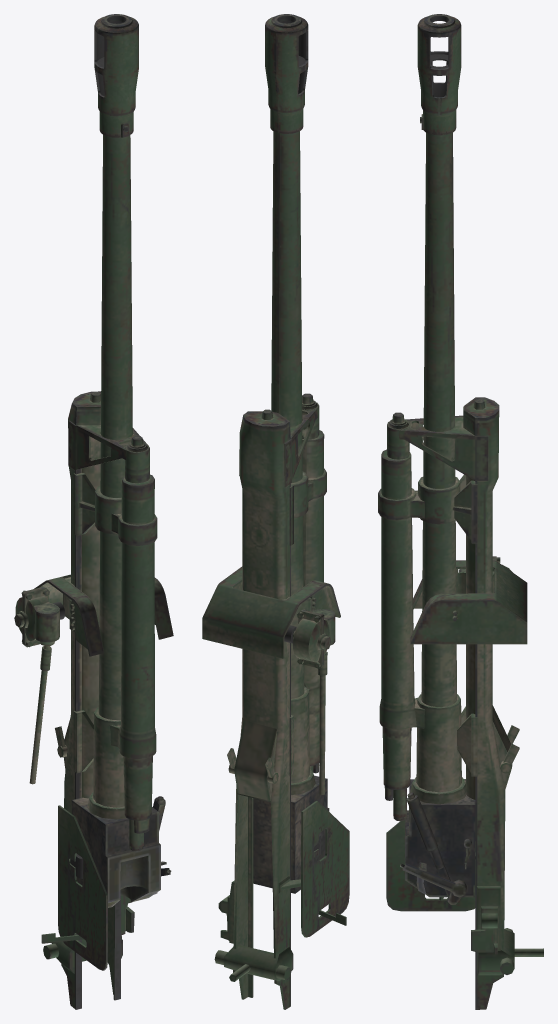
Rendered from Gun_02.glb.
The picture shows the model from 3 angles, left to right: view 1: azimuth 30°, elevation 25°; view 2: azimuth 150°, elevation 25°; view 3: azimuth 270°, elevation 25°; orthographic projection. The views are drawn at different scales.
Parts seen in each view (by area): view 1: set_0_group_0; view 2: set_0_group_0; view 3: set_0_group_0.
Part boxes in pixels (x1,y1,x2,y2): set_0_group_0: [14, 14, 173, 1009]; set_0_group_0: [202, 14, 349, 1009]; set_0_group_0: [378, 14, 543, 1009].
Bounding box in the file's own units: 0.4833 × 3.97 × 0.6092.
1 material, 1 textured.
